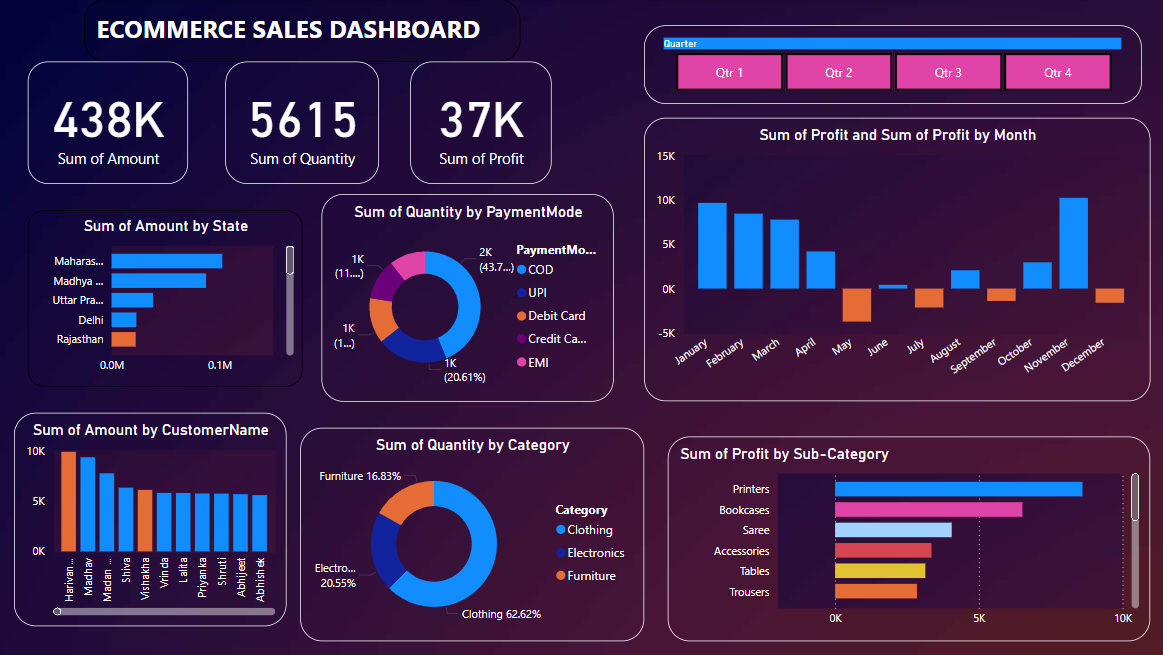

Layout of this report page (visuals, bound fields, positions):
{"tool":"powerbi","page":{"name":"Page 1","canvas":[1280,720],"ordinal":0},"visuals":[{"type":"columnChart","fields":{"Category":["Orders.Order Date.Variation.Date Hierarchy.Month","Orders.Order Date.Variation.Date Hierarchy.Day"],"Y":["Details.Profit","Details.Profit"]},"box":[708.1,130.4,555.7,311.5],"z":0},{"type":"textbox","box":[0,0,529.7,56.3],"z":1000},{"type":"barChart","fields":{"Category":["Details.Sub-Category"],"Y":["Details.Profit"]},"box":[734.1,480.3,529.7,225],"z":2000},{"type":"donutChart","fields":{"Category":["Details.Category"],"Y":["Details.Quantity"]},"box":[330.7,470.7,377.4,234.6],"z":3000},{"type":"donutChart","fields":{"Category":["Details.PaymentMode"],"Y":["Details.Quantity"]},"box":[354,214.1,321.1,227.8],"z":4000},{"type":"card","fields":{"Values":["Details.Amount"]},"box":[31.6,68.6,175.6,134.5],"z":5000},{"type":"card","fields":{"Values":["Details.Quantity"]},"box":[248.4,68.6,168.8,134.5],"z":6000},{"type":"card","fields":{"Values":["Details.Profit"]},"box":[451.5,68.6,155.1,134.5],"z":7000},{"type":"barChart","fields":{"Category":["Orders.State"],"Y":["Details.Amount"]},"box":[31.6,231.9,301.9,193.5],"z":8000},{"type":"slicer","fields":{"Values":["Orders.Order Date.Variation.Date Hierarchy.Quarter"]},"box":[708.1,28.8,546.1,86.4],"z":9000},{"type":"columnChart","fields":{"Category":["Orders.CustomerName"],"Y":["Details.Amount"]},"box":[16.5,454.2,299.1,234.6],"z":9001}]}

Visuals, with their boxes in screenshot pixels (x1, y1, x2, y2), scaled from the page's 1280x720 canvas onto the 1163x655 screenshot:
columnChart - Orders.Order Date.Variation.Date Hierarchy.Month x Orders.Order Date.Variation.Date Hierarchy.Day: [643, 119, 1148, 402]
textbox: [0, 0, 481, 51]
barChart - Details.Sub-Category x Details.Profit: [667, 437, 1148, 642]
donutChart - Details.Category x Details.Quantity: [300, 428, 643, 642]
donutChart - Details.PaymentMode x Details.Quantity: [322, 195, 613, 402]
card - Details.Amount: [29, 62, 188, 185]
card - Details.Quantity: [226, 62, 379, 185]
card - Details.Profit: [410, 62, 551, 185]
barChart - Orders.State x Details.Amount: [29, 211, 303, 387]
slicer - Orders.Order Date.Variation.Date Hierarchy.Quarter: [643, 26, 1140, 105]
columnChart - Orders.CustomerName x Details.Amount: [15, 413, 287, 627]
